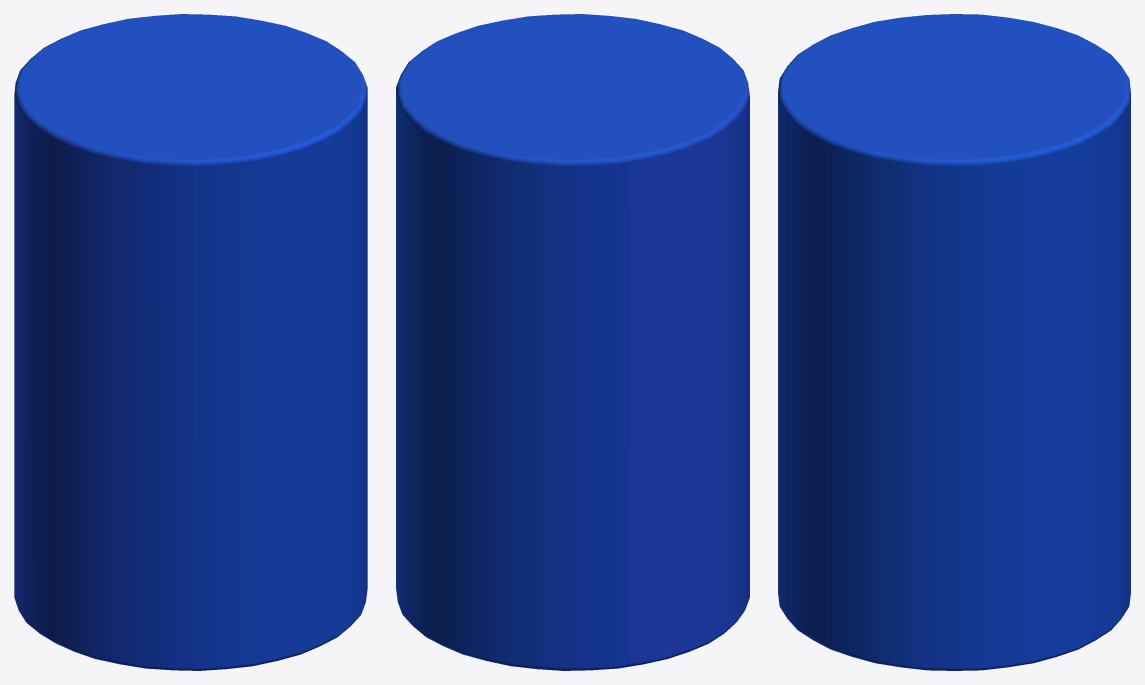
The picture shows the model from 3 angles, left to right: view 1: azimuth 30°, elevation 25°; view 2: azimuth 150°, elevation 25°; view 3: azimuth 270°, elevation 25°; orthographic projection.
Visible parts, largest first — view 1: node_id54; view 2: node_id54; view 3: node_id54.
Part boxes in pixels (box(x1,y1,x2,y2)): node_id54: box(14, 14, 367, 670); node_id54: box(396, 14, 749, 670); node_id54: box(778, 14, 1130, 670).
Bounding box in the file's own units: 0.3201 × 0.512 × 0.3201.
1 material, 1 textured.
